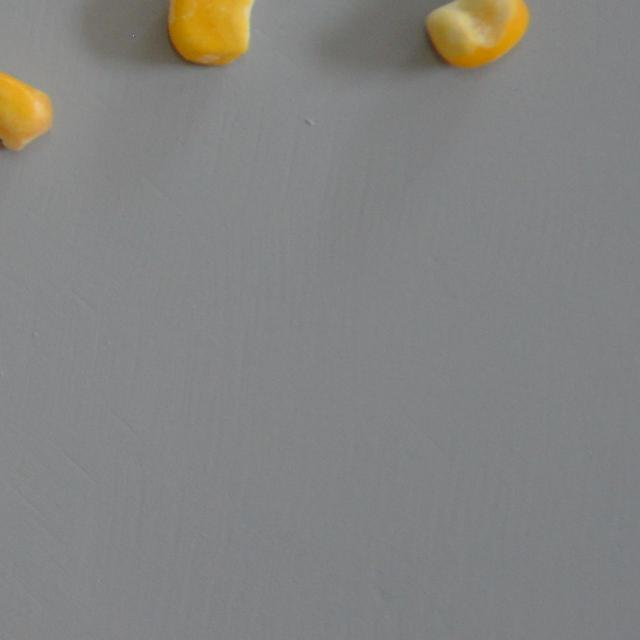no_canjicado: (422, 0, 528, 68), (0, 57, 54, 152)
pelicula: (164, 0, 258, 66)
